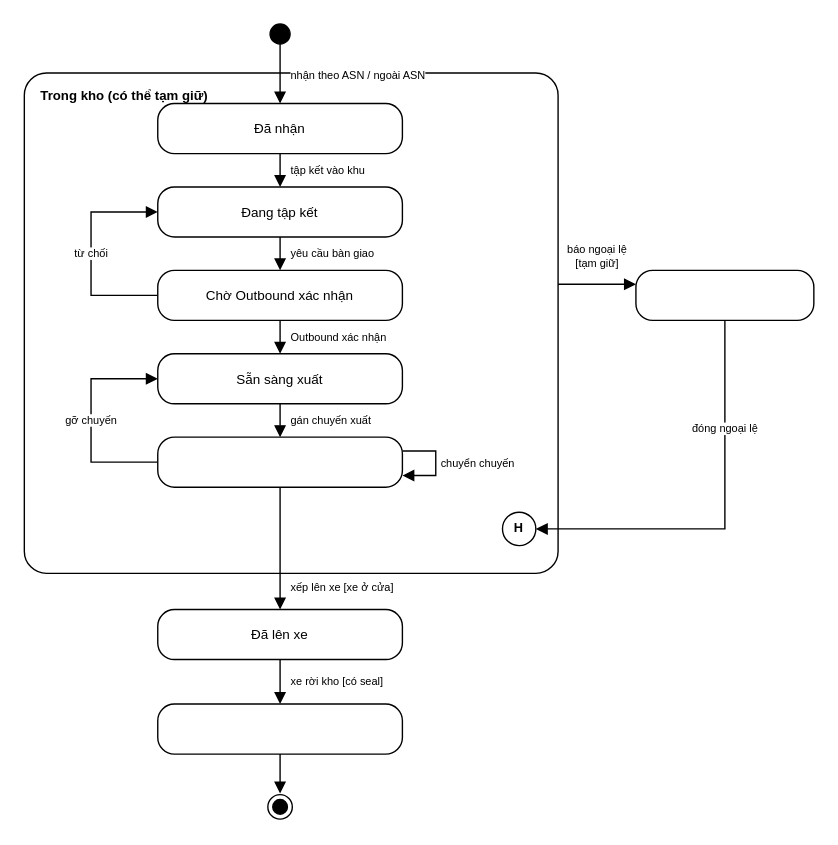
Image size: 838x845. Some labels were removed from this diagram. The shapes that lost their labels are listed below. From the top down, each one's centre as x and y in pixels, then its label:
At point 724,294: "Tạm giữ".
At point 279,461: "Đã gán chuyến".
At point 279,728: "Đã xuất kho".
